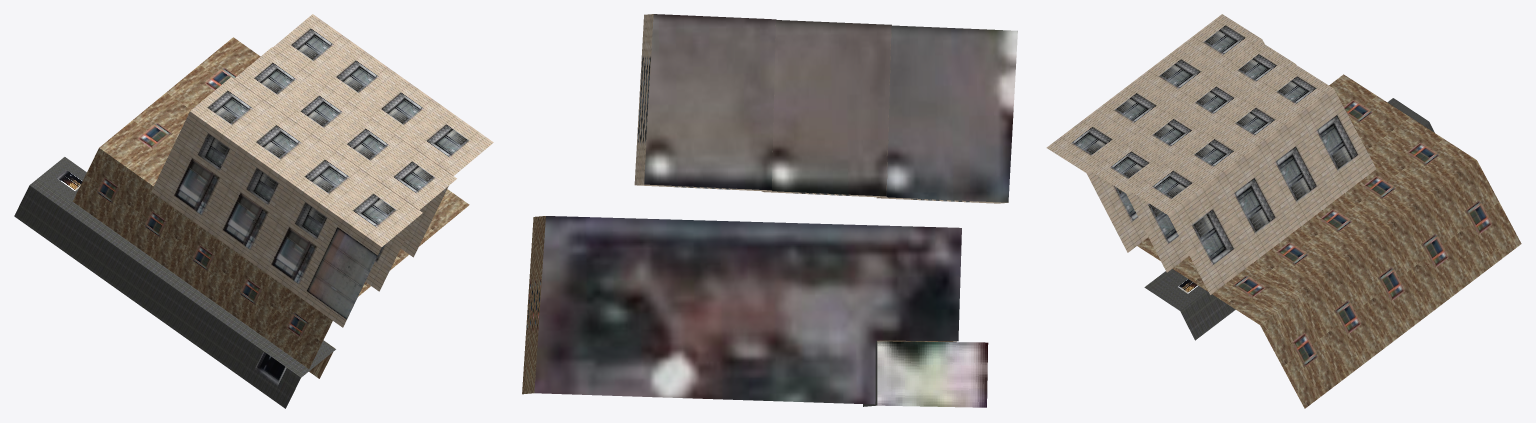
3 renders of one model, left to right at view 1: azimuth 30°, elevation 25°; view 2: azimuth 150°, elevation 25°; view 3: azimuth 270°, elevation 25°, orthographic. The views are drawn at different scales.
Bounding box in the file's own units: 24.91 × 18.84 × 28.59.
14 materials, 14 textured.
